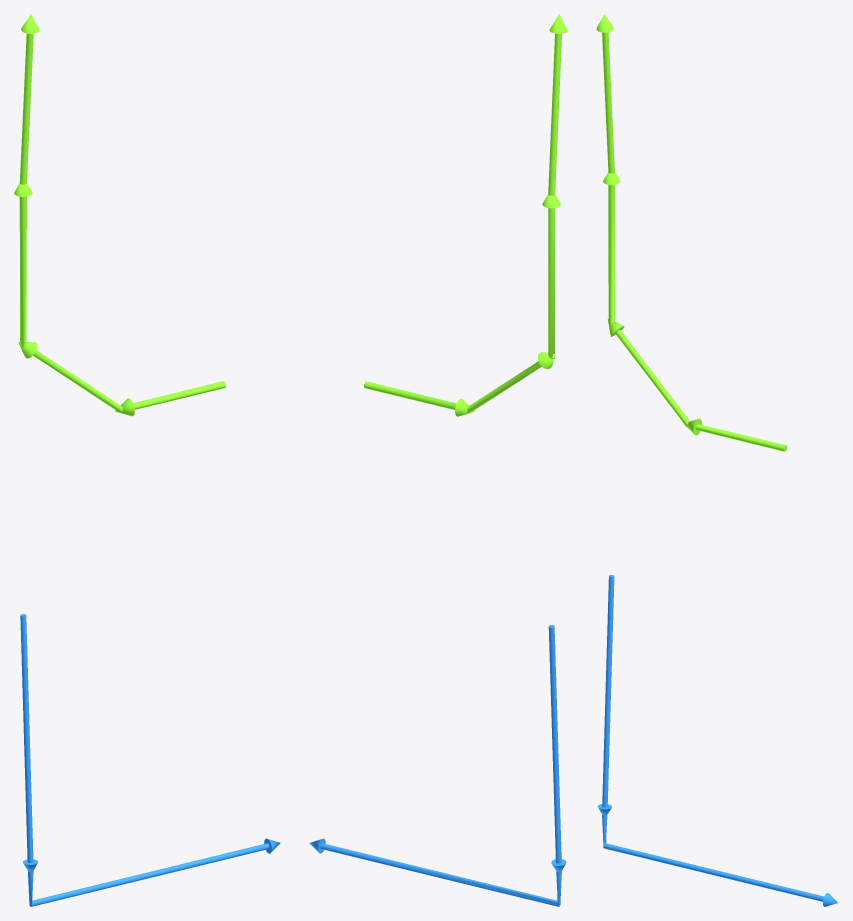
Rendered from gas_liquid_separator_flow.glb.
3 views of the same model, side by side, from view 1: azimuth 30°, elevation 25°; view 2: azimuth 150°, elevation 25°; view 3: azimuth 330°, elevation 25° (orthographic). The views are drawn at different scales.
Visible parts, largest first — view 1: gas, liquid.001; view 2: gas, liquid.001; view 3: gas, liquid.001.
Part boxes in pixels (<box>): gas: <box>14,14,225,416</box>; liquid.001: <box>20,614,280,906</box>; gas: <box>364,14,567,416</box>; liquid.001: <box>309,625,566,906</box>; gas: <box>596,14,786,451</box>; liquid.001: <box>597,575,837,906</box>.
Size of the model in its own units: 1 by 3.32 by 0.1124.
